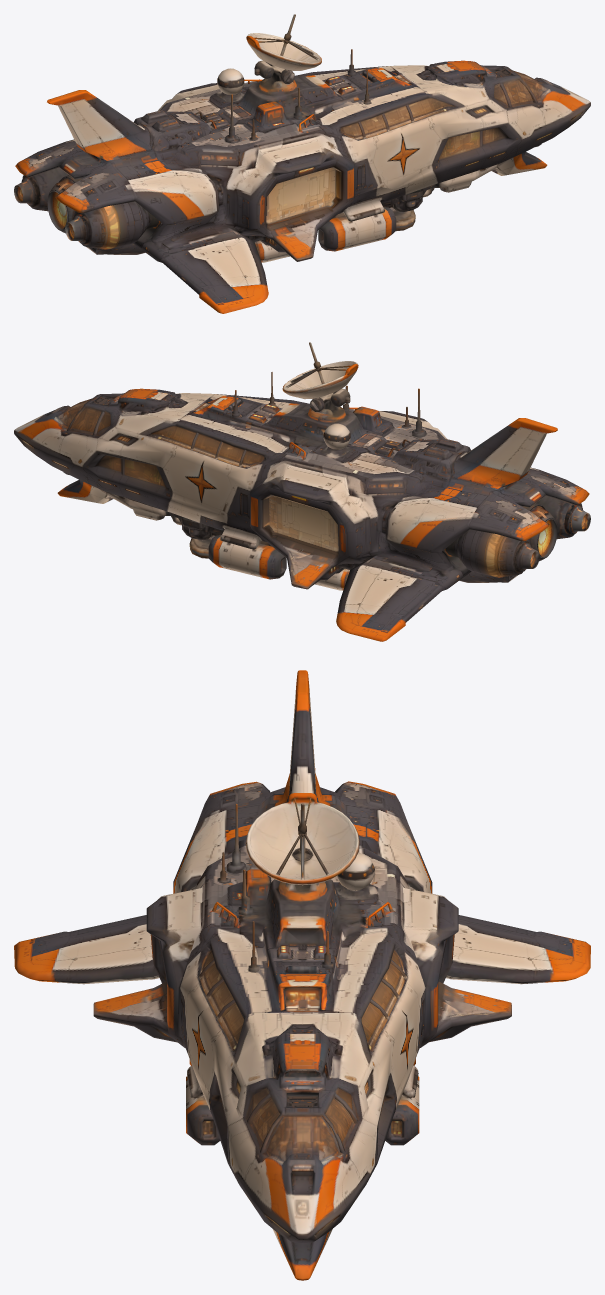
The model's file is tripo_convert_9019c4ab-2245-4844-90e8-f0460dc06a13.glb.
3 renders of one model, top to bottom at view 1: azimuth 30°, elevation 25°; view 2: azimuth 150°, elevation 25°; view 3: azimuth 270°, elevation 25°, orthographic. The views are drawn at different scales.
Parts seen in each view (by area): view 1: tripo_node_9019c4ab-2245-4844-90e8-f0460dc06a13; view 2: tripo_node_9019c4ab-2245-4844-90e8-f0460dc06a13; view 3: tripo_node_9019c4ab-2245-4844-90e8-f0460dc06a13.
Part boxes in pixels (<box>): tripo_node_9019c4ab-2245-4844-90e8-f0460dc06a13: <box>14,14,590,313</box>; tripo_node_9019c4ab-2245-4844-90e8-f0460dc06a13: <box>14,342,590,641</box>; tripo_node_9019c4ab-2245-4844-90e8-f0460dc06a13: <box>14,670,590,1280</box>.
Bounding box in the file's own units: 0.9995 × 0.395 × 0.6372.
1 material, 1 textured.
